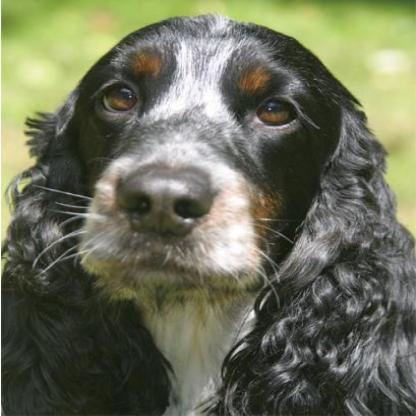cocker_spaniel: (0, 11, 412, 412)
